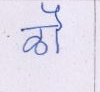au_matra: (44, 3, 66, 53)
